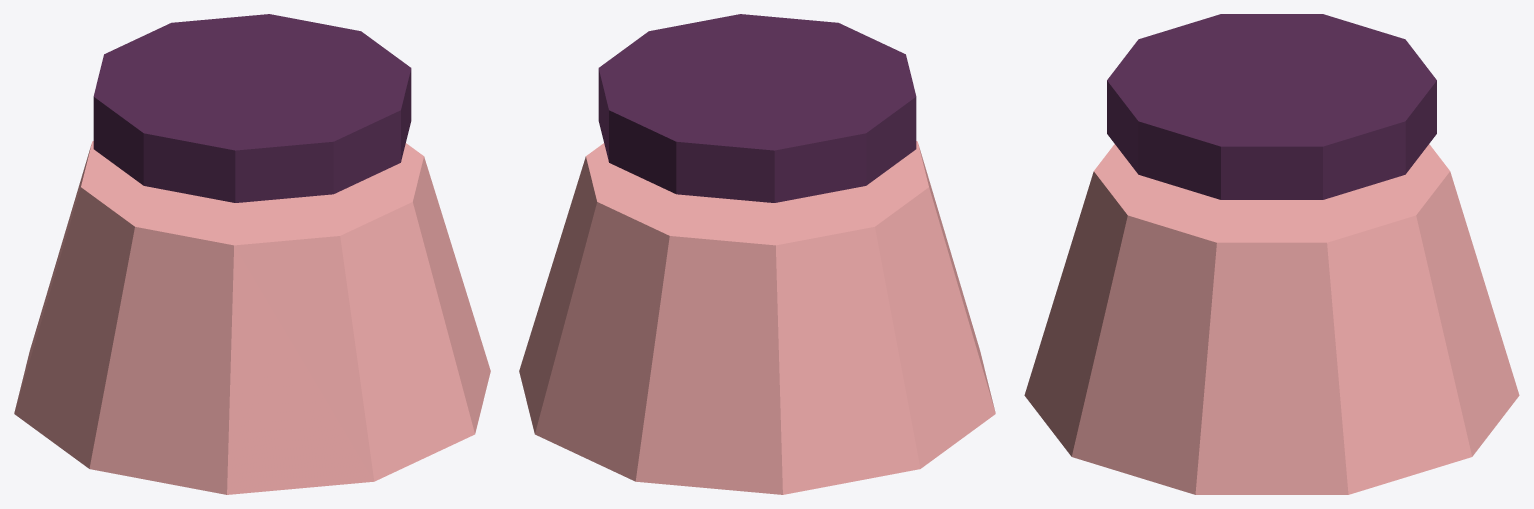
The model's file is ceiling-light.obj.
3 views of the same model, side by side, from view 1: azimuth 30°, elevation 25°; view 2: azimuth 150°, elevation 25°; view 3: azimuth 270°, elevation 25° (orthographic).
Parts seen in each view (by area): view 1: warm-hanging-shade, ceiling-cap; view 2: warm-hanging-shade, ceiling-cap; view 3: warm-hanging-shade, ceiling-cap.
Boxes of the visible parts, x1,y1,x2,y2 form: warm-hanging-shade: [14, 141, 490, 494]; ceiling-cap: [93, 14, 411, 202]; warm-hanging-shade: [519, 141, 995, 494]; ceiling-cap: [598, 14, 916, 202]; warm-hanging-shade: [1024, 144, 1519, 494]; ceiling-cap: [1107, 14, 1436, 199].
Bounding box in the file's own units: 0.7988 × 0.59 × 0.84.
